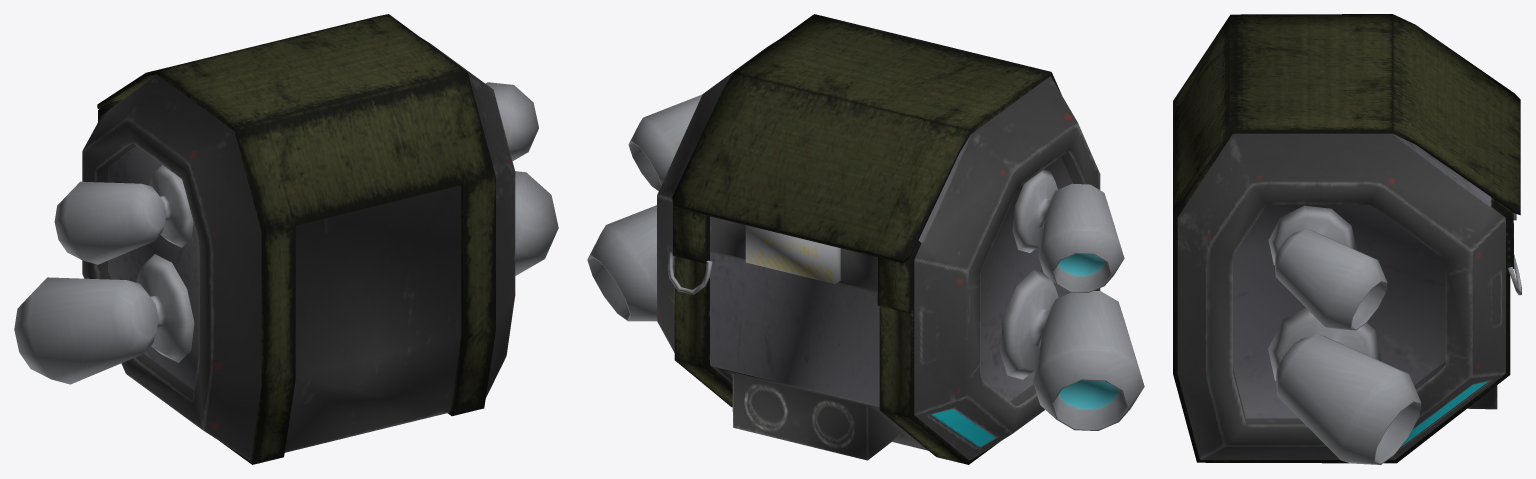
File: pack.glb
3 views of the same model, side by side, from view 1: azimuth 30°, elevation 25°; view 2: azimuth 150°, elevation 25°; view 3: azimuth 270°, elevation 25° (orthographic). The views are drawn at different scales.
Parts seen in each view (by area): view 1: a_low, a3_low, a8_low, a9_low, a4_low; view 2: a_low, a3_low, a8_low, a9_low, a4_low; view 3: a_low, a9_low, a4_low.
Part boxes in pixels (x1=…): a_low: x1=82, y1=14, x2=515, y2=464; a3_low: x1=14, y1=254, x2=194, y2=384; a8_low: x1=54, y1=165, x2=193, y2=264; a9_low: x1=515, y1=171, x2=558, y2=275; a4_low: x1=485, y1=82, x2=538, y2=160; a_low: x1=657, y1=14, x2=1100, y2=464; a3_low: x1=1000, y1=270, x2=1144, y2=430; a8_low: x1=1012, y1=169, x2=1124, y2=292; a9_low: x1=587, y1=205, x2=656, y2=321; a4_low: x1=628, y1=94, x2=702, y2=191; a_low: x1=1173, y1=14, x2=1520, y2=463; a9_low: x1=1268, y1=308, x2=1421, y2=464; a4_low: x1=1268, y1=205, x2=1387, y2=330.
Bounding box in the file's own units: 0.3124 × 0.1967 × 0.1758.
Materials: 8 (8 with a texture image).
